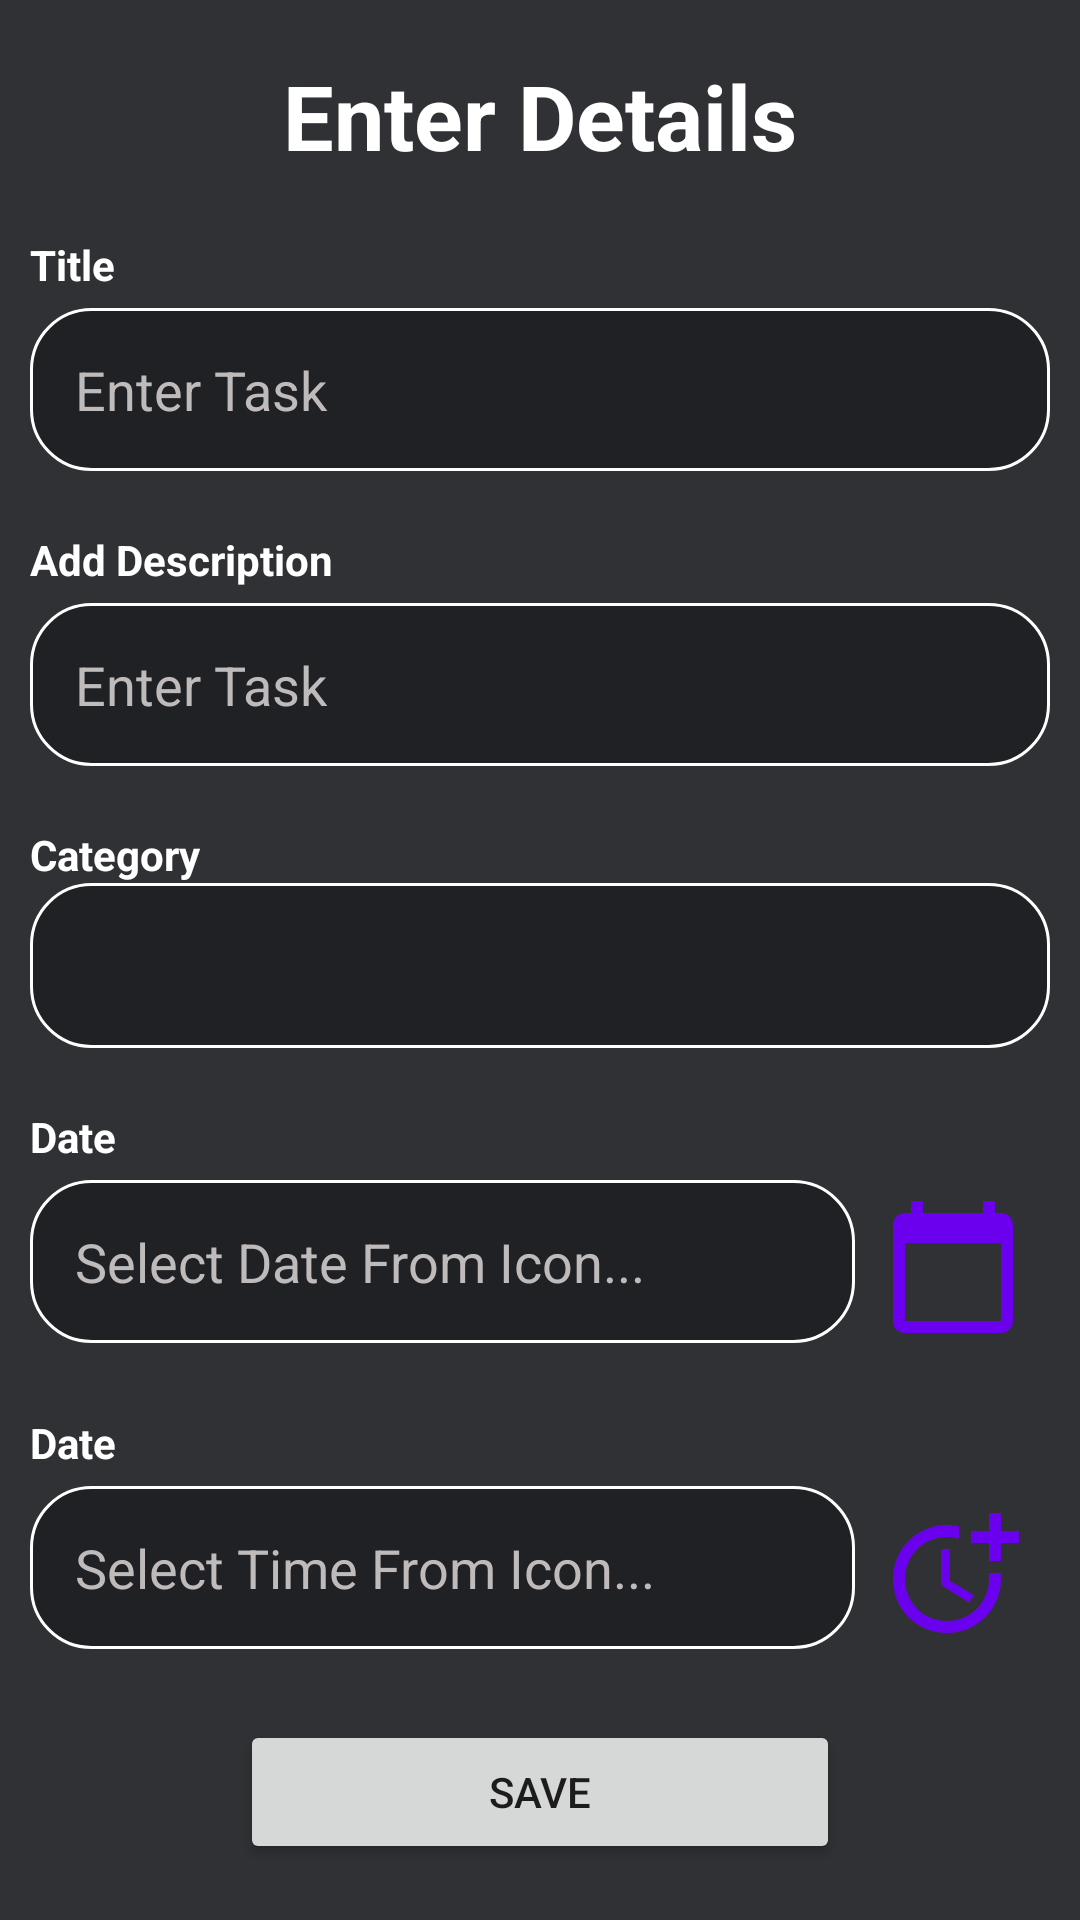

Screen size 1080px×1920px. Icon name, then its center in pixels as (x=x, y=y):
calendar: (x=953, y=1267)
